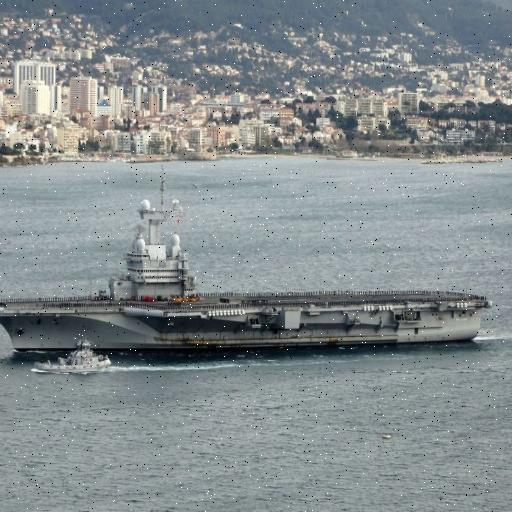Portanaves: (1, 167, 494, 360)
